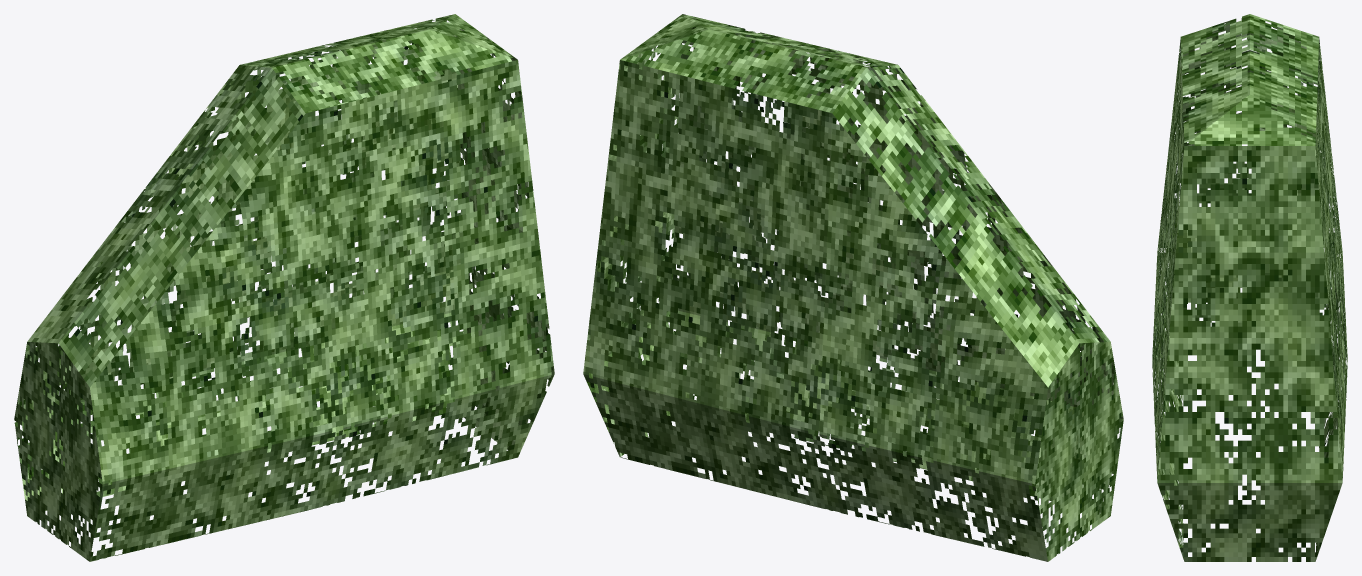
The model's file is bush_connector_high_end_summer.glb.
The picture shows the model from 3 angles, left to right: view 1: azimuth 30°, elevation 25°; view 2: azimuth 150°, elevation 25°; view 3: azimuth 270°, elevation 25°; orthographic projection. The views are drawn at different scales.
Parts seen in each view (by area): view 1: bush_connector_high_end_summer; view 2: bush_connector_high_end_summer; view 3: bush_connector_high_end_summer.
Part boxes in pixels (x1,y1,x2,y2): bush_connector_high_end_summer: (14,14,554,561); bush_connector_high_end_summer: (583,14,1123,561); bush_connector_high_end_summer: (1152,14,1347,561).
Bounding box in the file's own units: 2.12 × 1.88 × 0.7592.
Materials: 1 (1 with a texture image).
